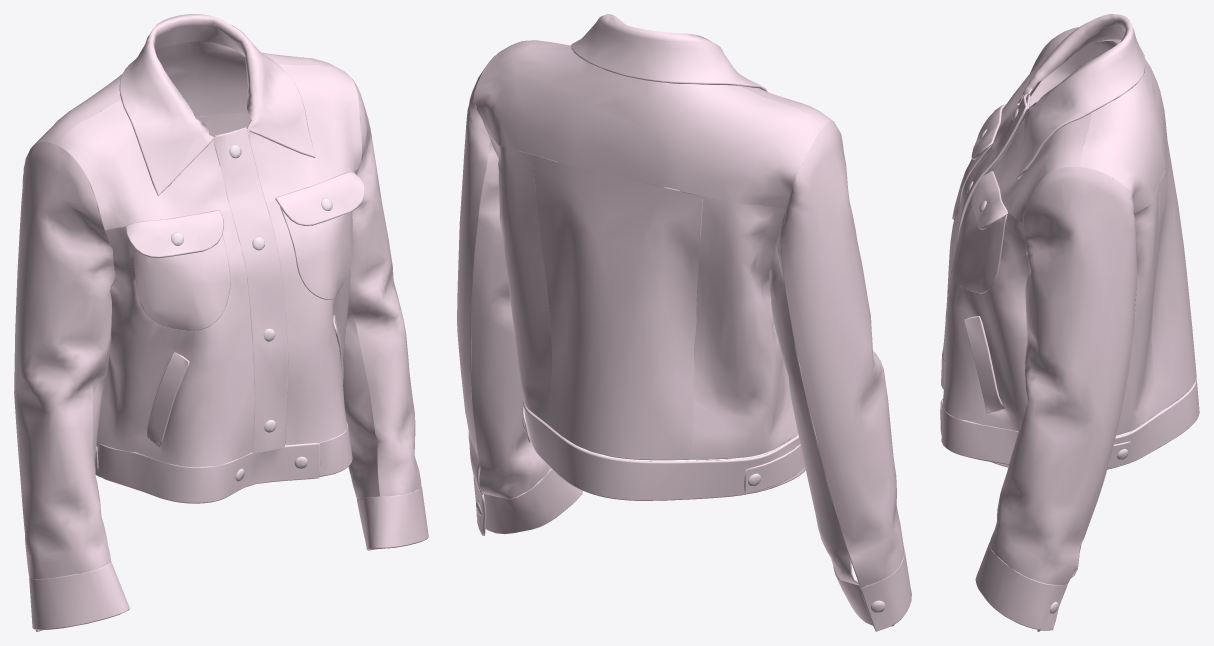
The model's file is rose-leather-jacket.glb.
3 renders of one model, left to right at view 1: azimuth 30°, elevation 25°; view 2: azimuth 150°, elevation 25°; view 3: azimuth 270°, elevation 25°, orthographic. The views are drawn at different scales.
Parts seen in each view (by area): view 1: rose-leather-jacket; view 2: rose-leather-jacket; view 3: rose-leather-jacket.
Boxes of the visible parts, bbox=[...] form: rose-leather-jacket: bbox=[14, 14, 428, 631]; rose-leather-jacket: bbox=[457, 14, 911, 631]; rose-leather-jacket: bbox=[940, 14, 1199, 631].
Bounding box in the file's own units: 1.39 × 1.85 × 0.837.
2 materials, 1 textured.
